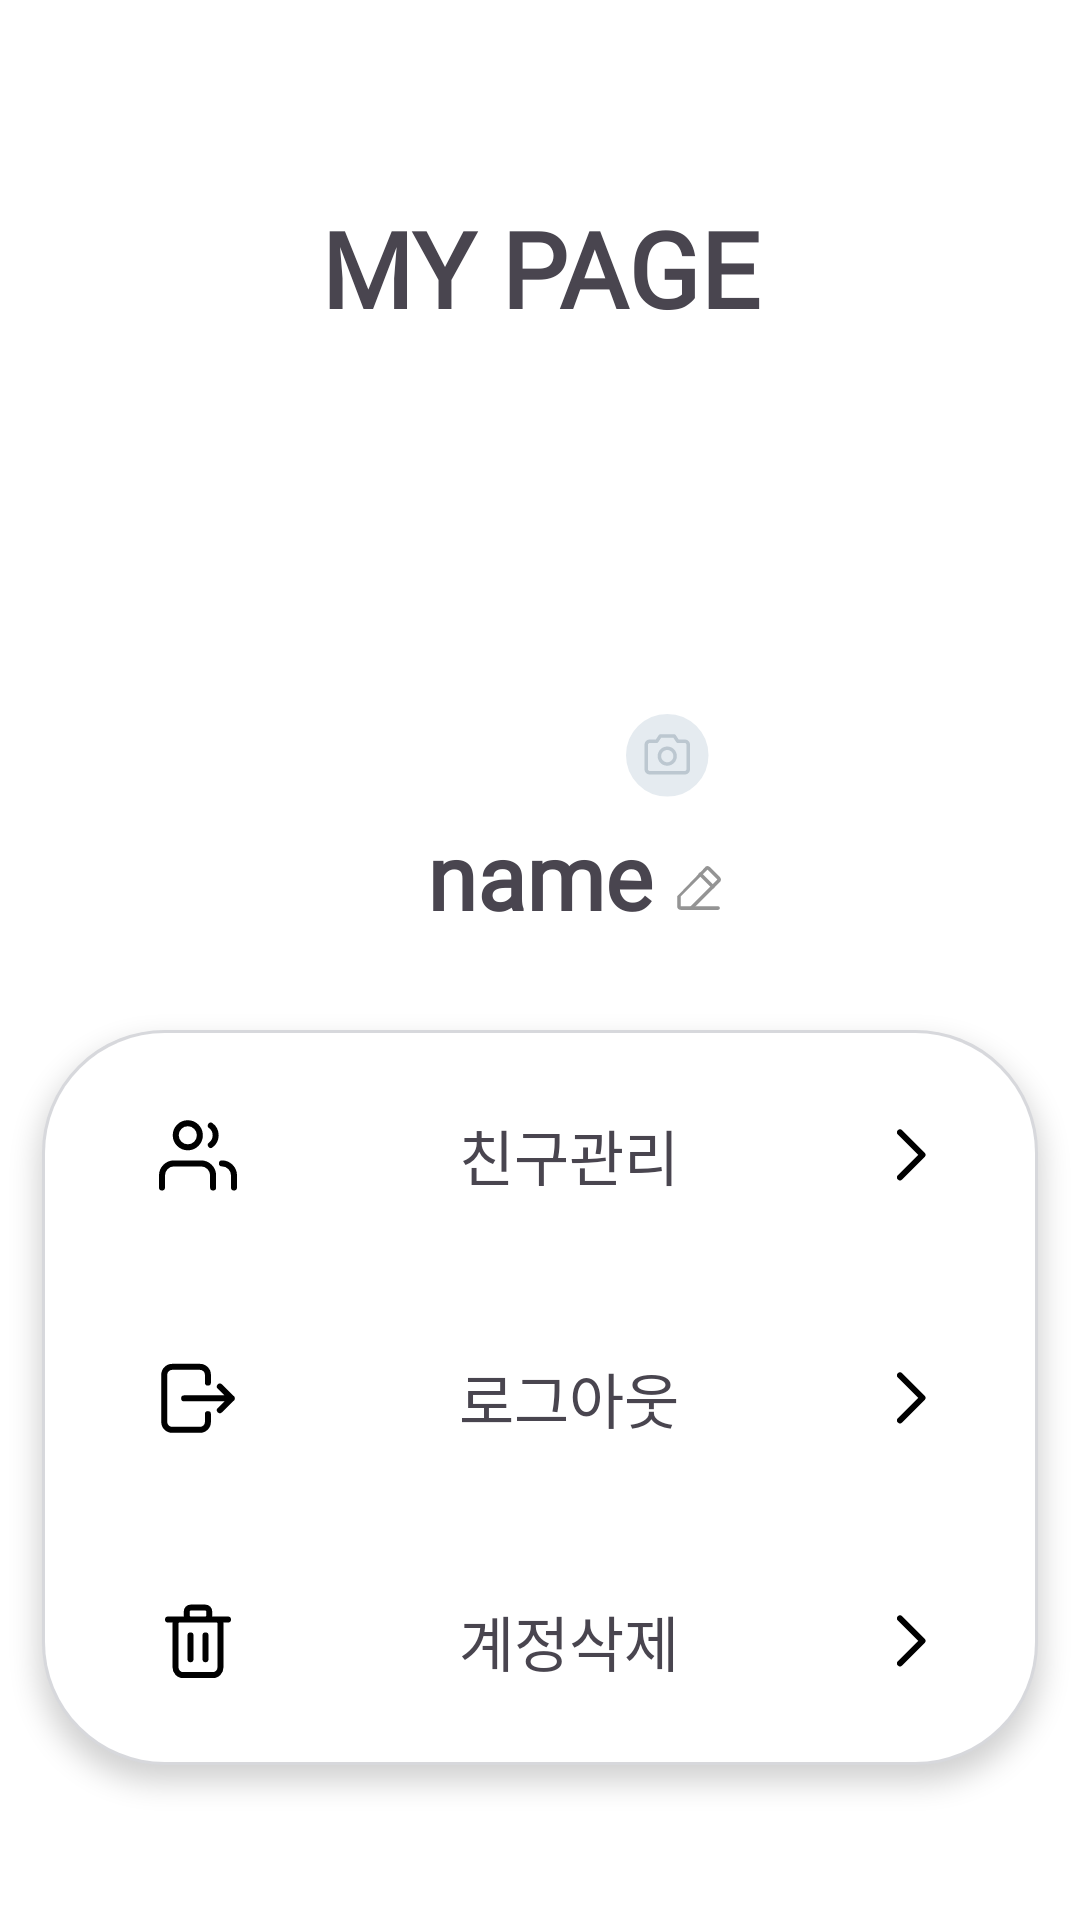

Point at icon controls on the screen. Image size 1080×1920, points as point (x, y).
friend: point (198, 1155)
next buttom: point (911, 1155), point (911, 1398), point (911, 1641)
pencilsimpleline: point (699, 888)
trash: point (198, 1641)
프로필 변경 버튼: point (667, 755)
